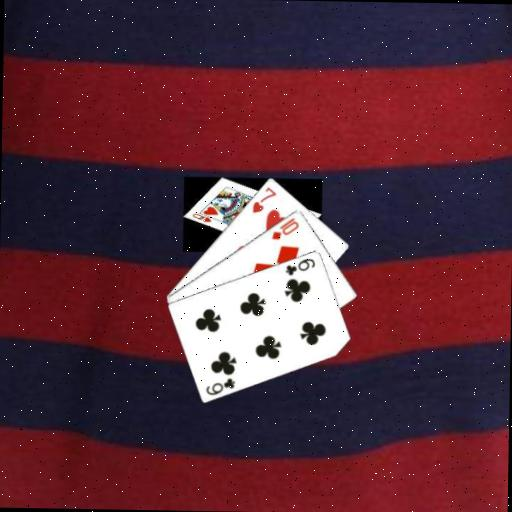10D: (268, 214, 300, 241)
6C: (282, 255, 317, 278), (203, 374, 237, 397)
7H: (249, 184, 278, 215)
